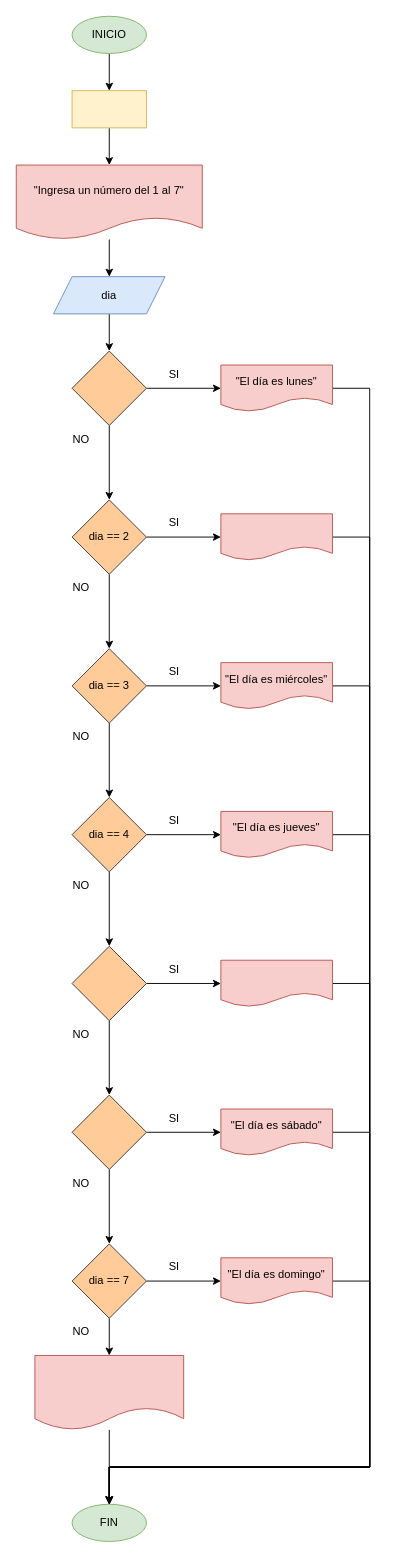
Image size: 393x1558. Some labels were removed from this diagram. Each missing label, with the box of its shape:
"El día es martes": (220, 513, 332, 560)
"El día es viernes": (220, 959, 332, 1007)
"El número ingresado no es válido": (34, 1355, 184, 1430)
dia = 0: (71, 90, 146, 128)
dia == 1: (71, 350, 146, 425)
dia == 5: (71, 945, 146, 1021)
dia == 6: (71, 1094, 146, 1169)
